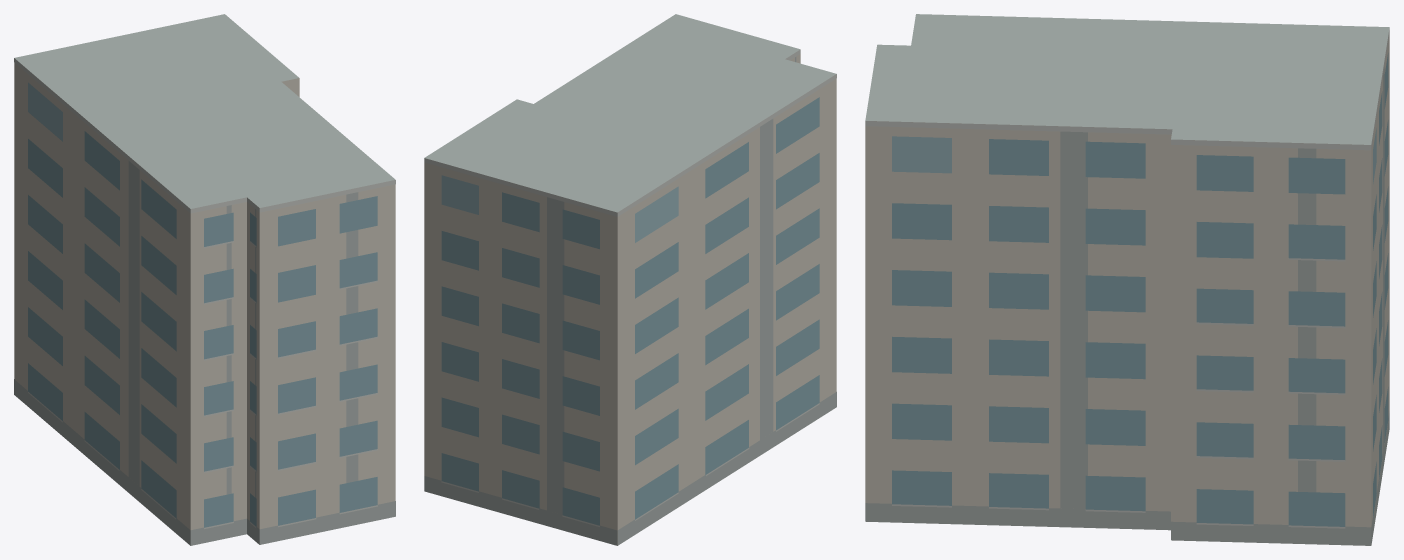
The model's file is survey-upis-32979018.glb.
3 views of the same model, side by side, from view 1: azimuth 30°, elevation 25°; view 2: azimuth 150°, elevation 25°; view 3: azimuth 270°, elevation 25° (orthographic). The views are drawn at different scales.
Visible parts, largest first — view 1: survey-upis-32979018.tmp; view 2: survey-upis-32979018.tmp; view 3: survey-upis-32979018.tmp.
Boxes of the visible parts, x1=… form: survey-upis-32979018.tmp: x1=14, y1=14, x2=395, y2=545; survey-upis-32979018.tmp: x1=424, y1=14, x2=836, y2=545; survey-upis-32979018.tmp: x1=865, y1=14, x2=1389, y2=545.
Bounding box in the file's own units: 12.83 × 18.3 × 21.7.
